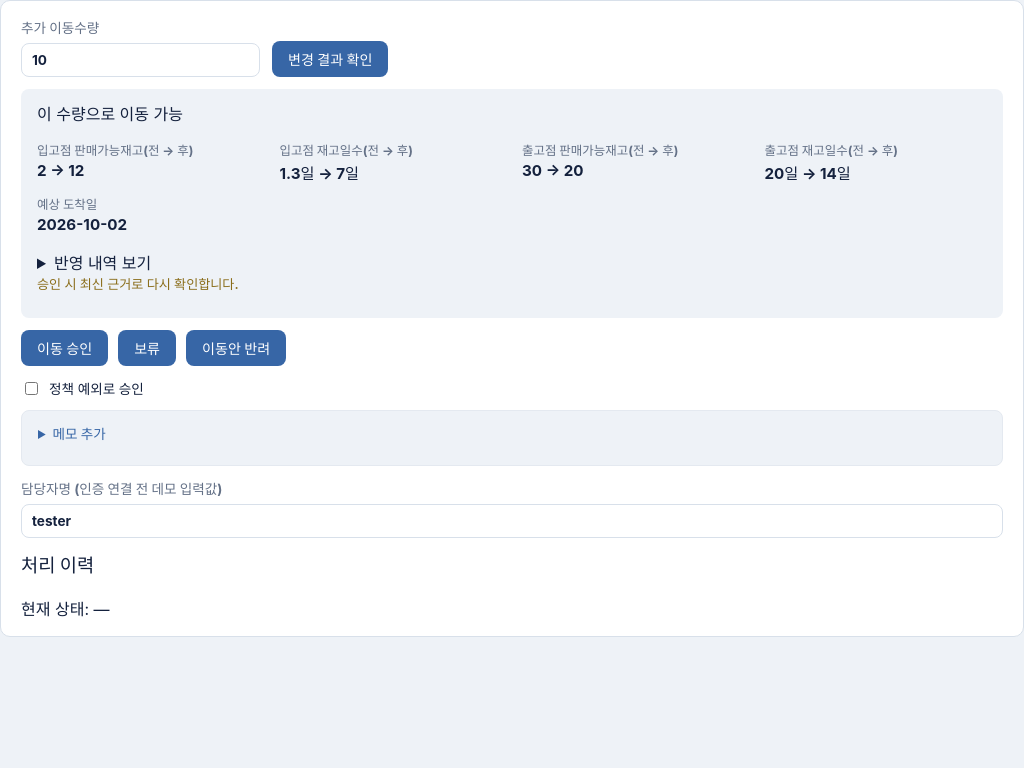
DecisionPanel decision submission › fails closed immediately on a successful APPROVED response, even if the follow-up history GET then fails, while the success message stays visible
Click the button "이동 승인". click: x=65, y=348
box: [21, 330, 108, 366]
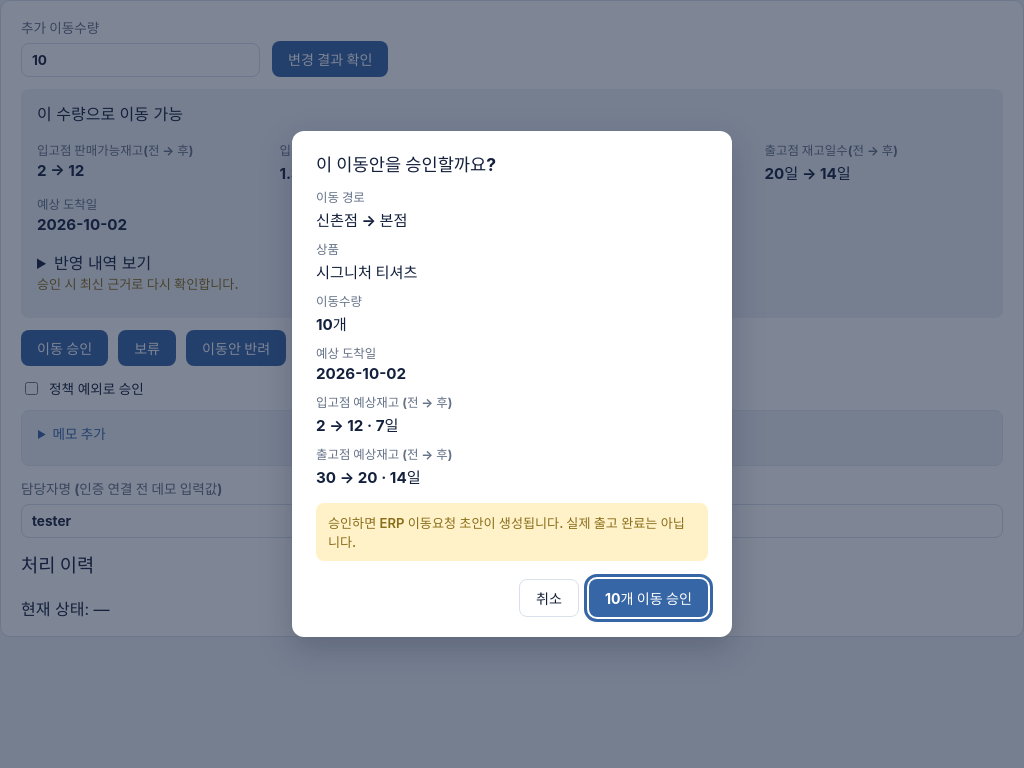
Click the button "10개 이동 승인". click: x=648, y=598
box: [589, 579, 708, 617]
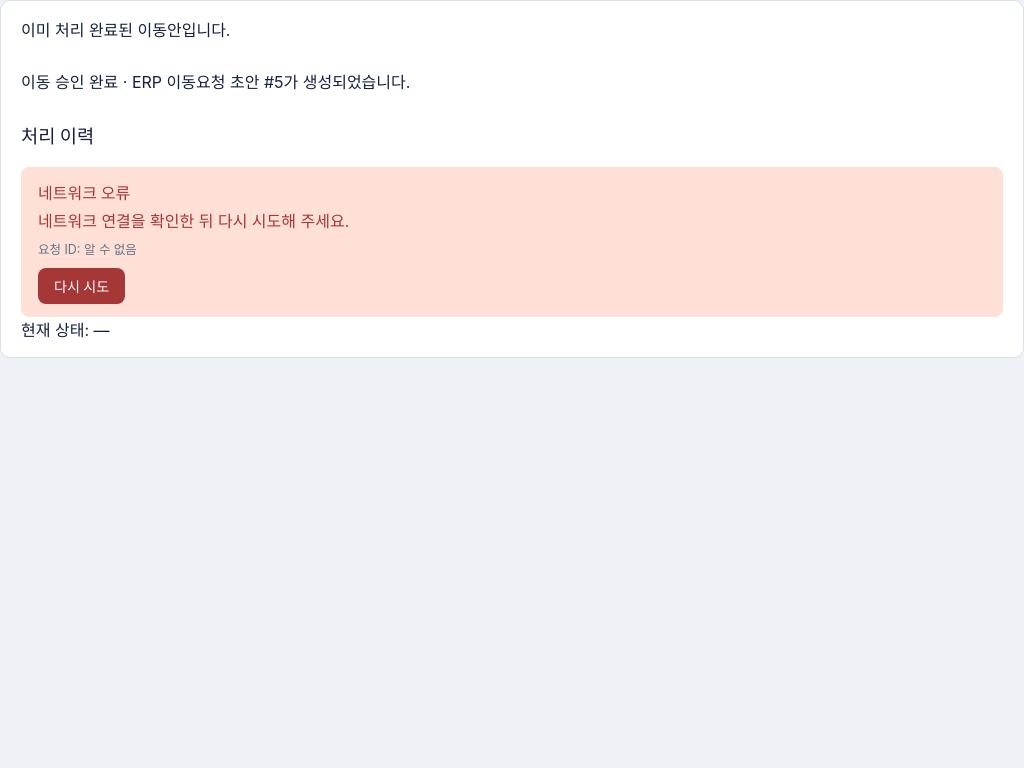
Check: the text "이미 처리 완료된 이동안입니다." is shown, box [21, 20, 230, 40]
Check: the text "이동 승인 완료 · ERP 이동요청 초안 #5가 생성되었습니다." is shown, box [21, 72, 410, 92]
